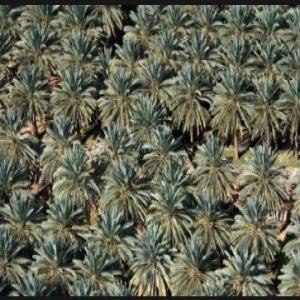palm tree: (0, 4, 299, 296)
